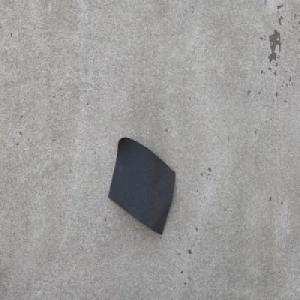PaintChip: (107, 135, 176, 236)
